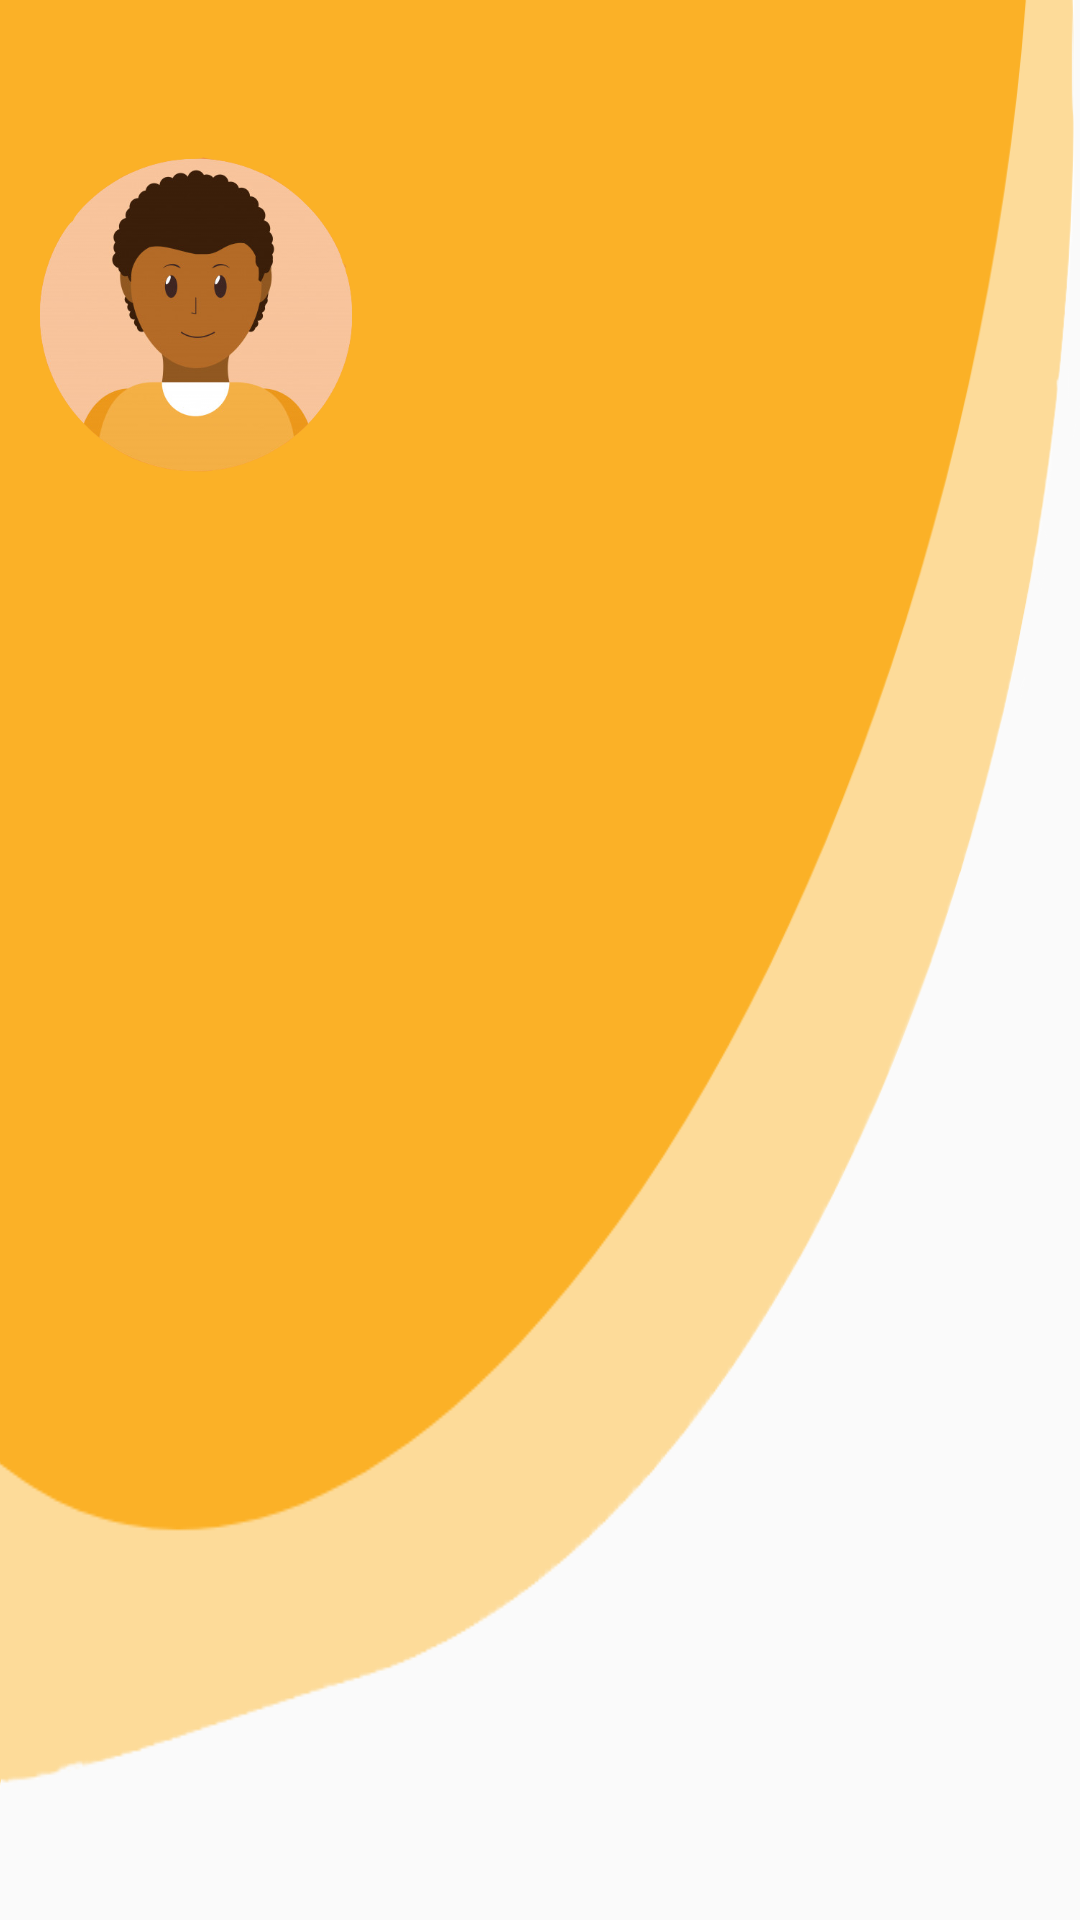

Icon click points for this 1080px x 1920px phone screenshot, format [x,y]:
profile blank: [196,314]
